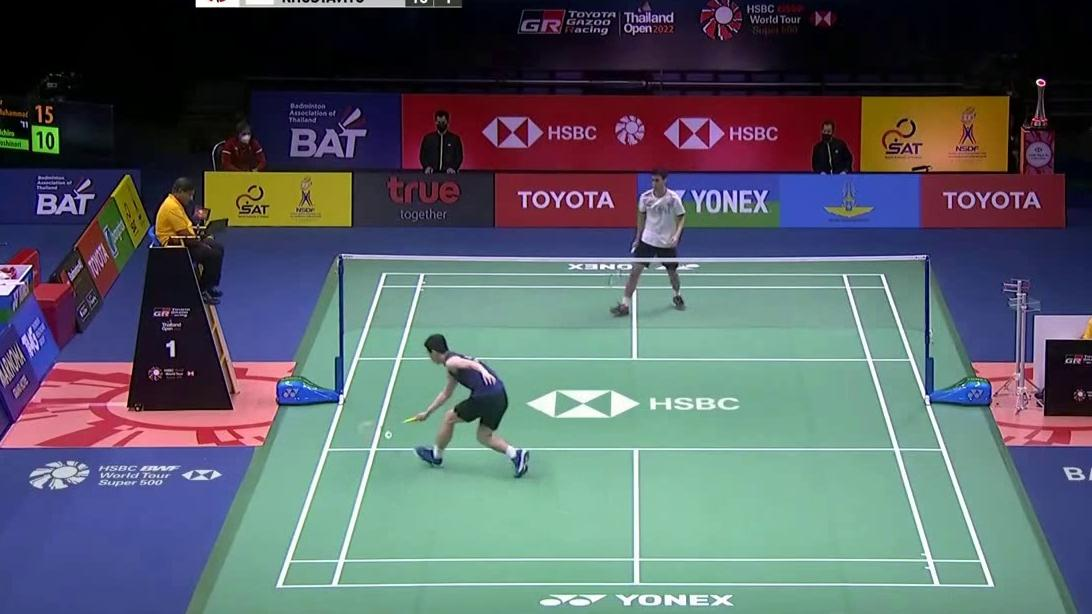racket: (357, 413, 425, 435), (608, 241, 638, 287)
shuttle: (384, 430, 392, 439)
